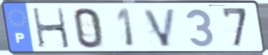0: (72, 7, 105, 50)
1: (115, 7, 135, 49)
3: (185, 7, 217, 49)
7: (220, 7, 250, 49)
H: (30, 6, 72, 50)
V: (141, 7, 179, 49)
